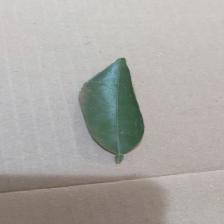healthy: (68, 52, 169, 162)
